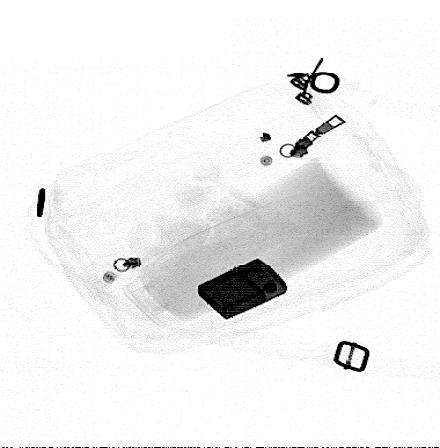Lighter: (197, 258, 287, 320)
